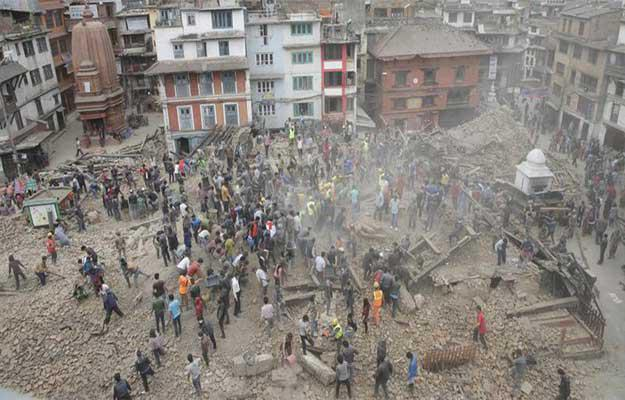affected: (147, 1, 261, 160)
minor: (362, 17, 494, 125)
